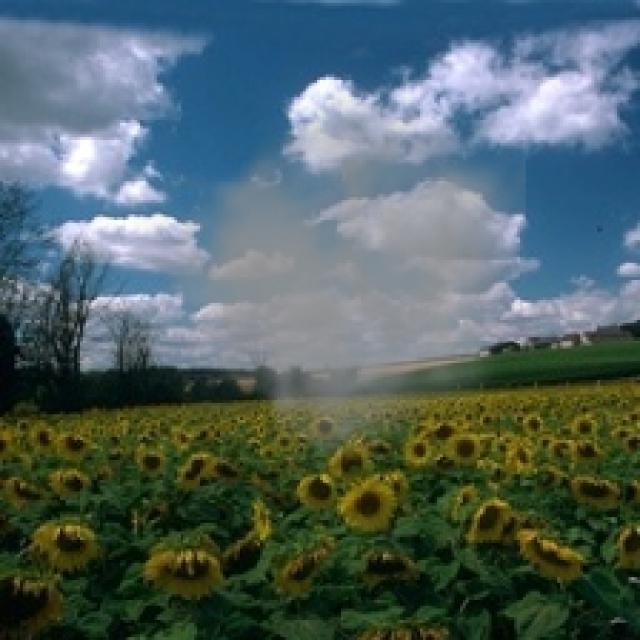Smoke: (125, 72, 526, 474)
